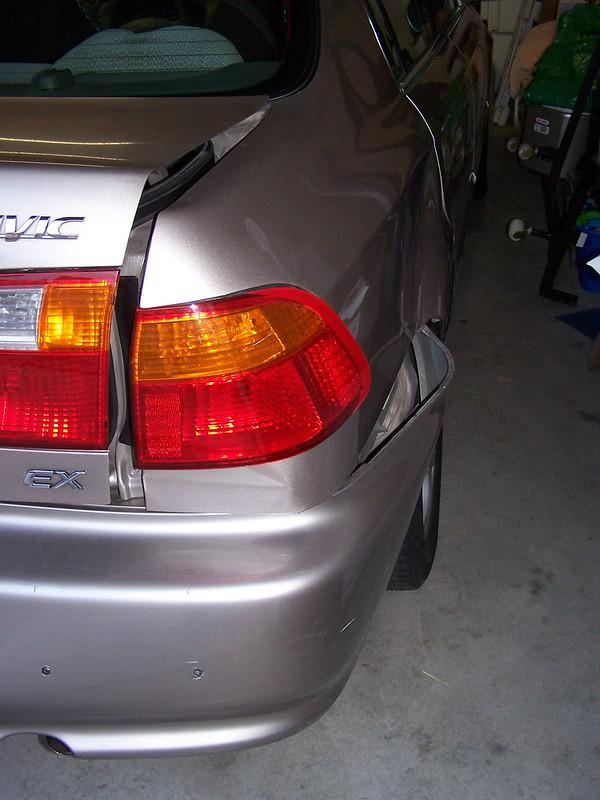boot-dent: (0, 155, 177, 512)
rear-bumper-dent: (0, 513, 420, 770)
